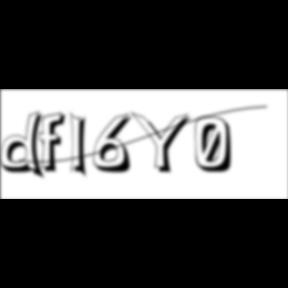0: (196, 115, 240, 174)
6: (94, 112, 138, 176)
I: (70, 110, 94, 182)
Y: (130, 110, 196, 176)
d: (0, 110, 50, 182)
f: (38, 111, 72, 175)
